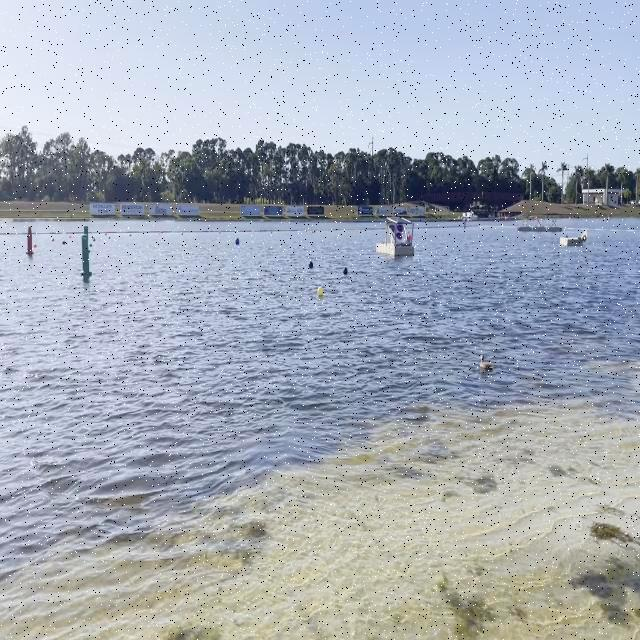buoy: (317, 286, 323, 296), (308, 261, 314, 269), (343, 267, 348, 275)
